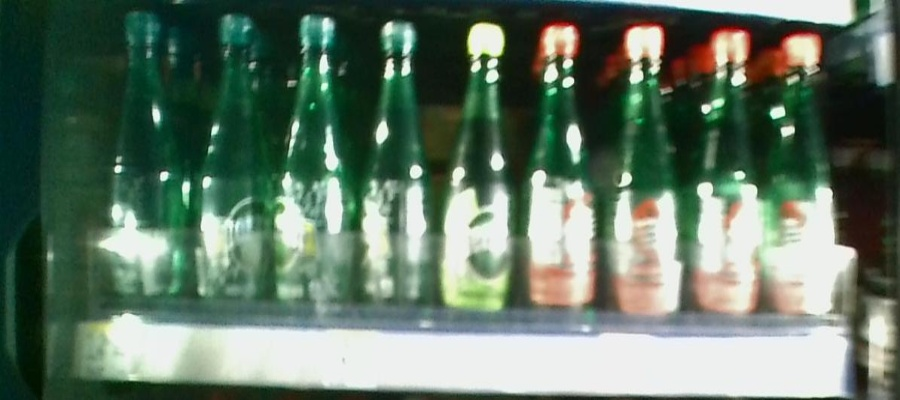bottle: (102, 4, 187, 323), (523, 11, 605, 330), (278, 5, 358, 324), (608, 10, 688, 324), (441, 10, 518, 331), (194, 4, 270, 324), (363, 10, 435, 328), (691, 17, 763, 330), (769, 25, 840, 333)
